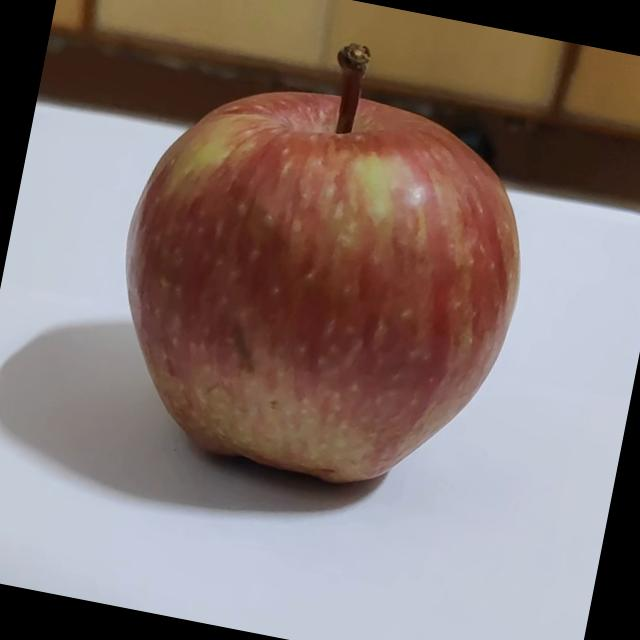apple: (80, 2, 564, 524)
